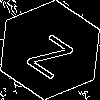Z: (25, 25, 82, 80)
